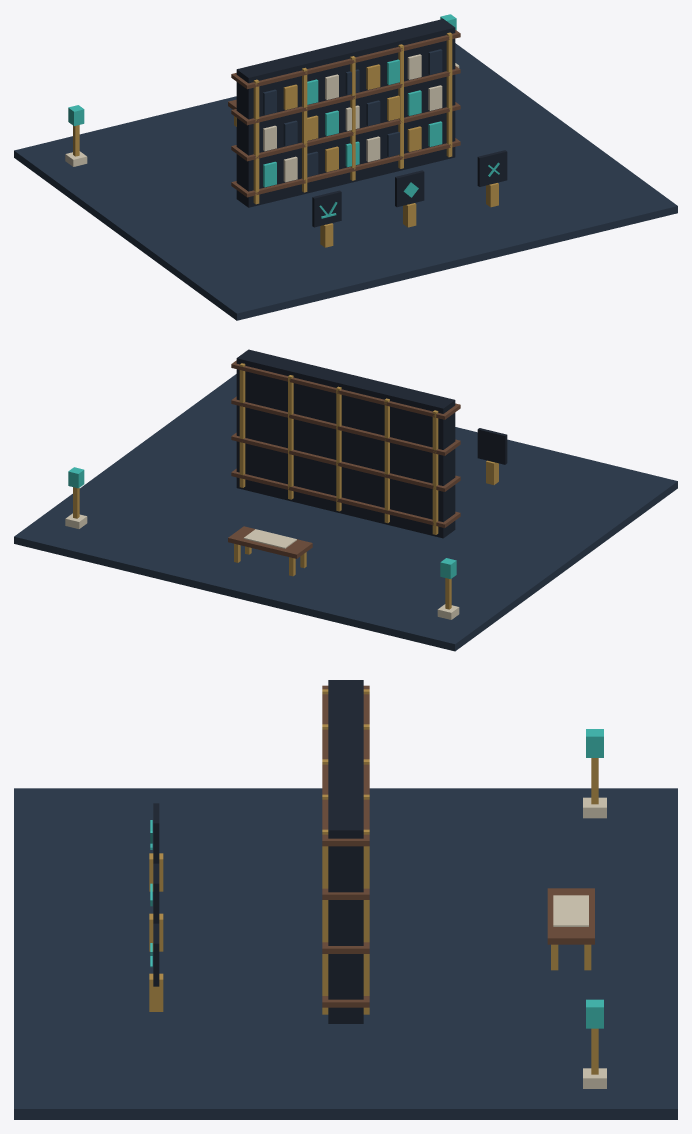
The model's file is hidden_archive.glb.
The picture shows the model from 3 angles, top to bottom: view 1: azimuth 30°, elevation 25°; view 2: azimuth 150°, elevation 25°; view 3: azimuth 270°, elevation 25°; orthographic projection. The views are drawn at different scales.
Parts seen in each view (by area): view 1: hidden_archive; view 2: hidden_archive; view 3: hidden_archive.
Boxes of the visible parts, x1=… form: hidden_archive: x1=14, y1=14, x2=677, y2=320; hidden_archive: x1=14, y1=349, x2=677, y2=651; hidden_archive: x1=14, y1=680, x2=677, y2=1119.
Size of the model in its own units: 64 by 19 by 56.
